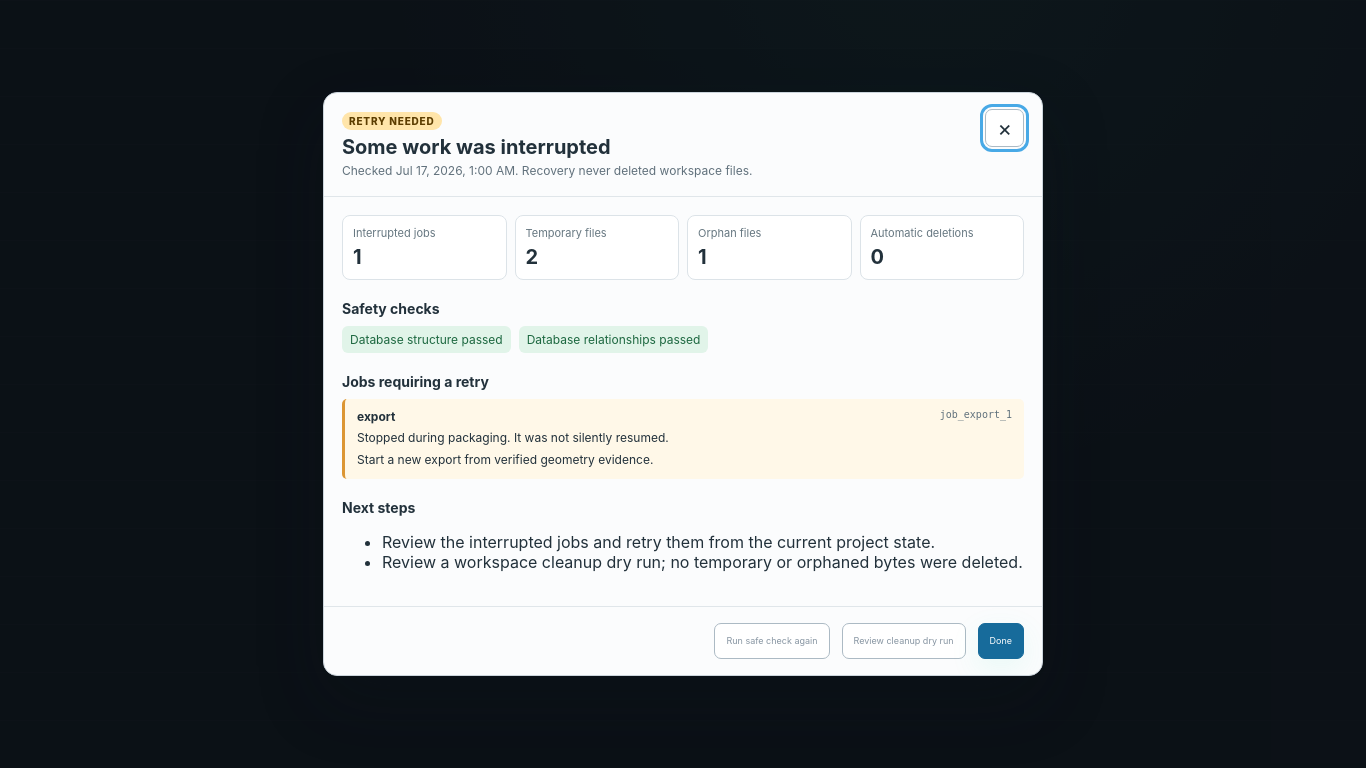
it: WorkspaceRecoveryPanel › explains that jobs were not resumed and cleanup remains a reviewed action
Expected: the dialog "Some work was interrupted" shows "Stopped during packaging. It was not silently resumed.", [323,92,1043,676]
Click the button "Review cleanup dry run".
click(904, 641)  # box [842,623,966,659]
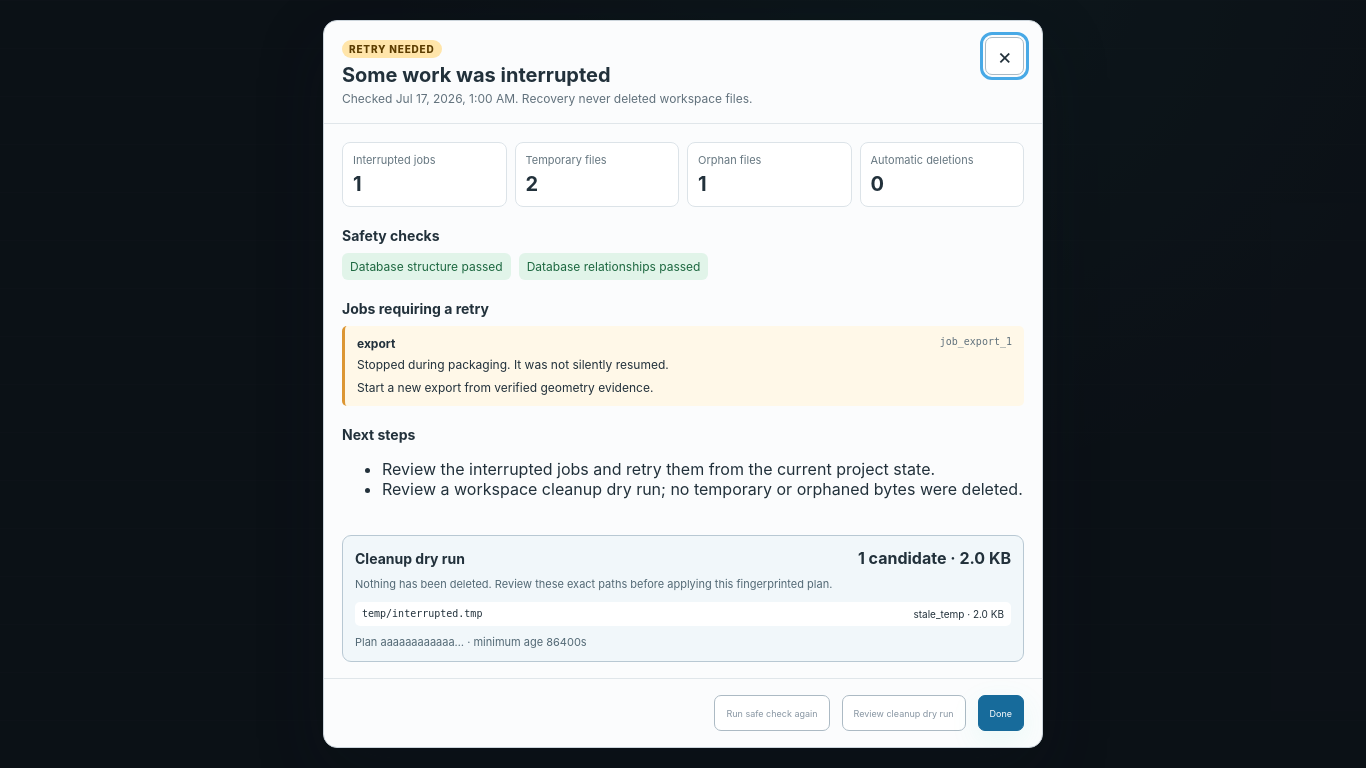
Result: the heading "Cleanup dry run" is shown at [355,550,465,567]
Click the button "Run safe check again".
click(772, 713)  # box [714,695,830,731]
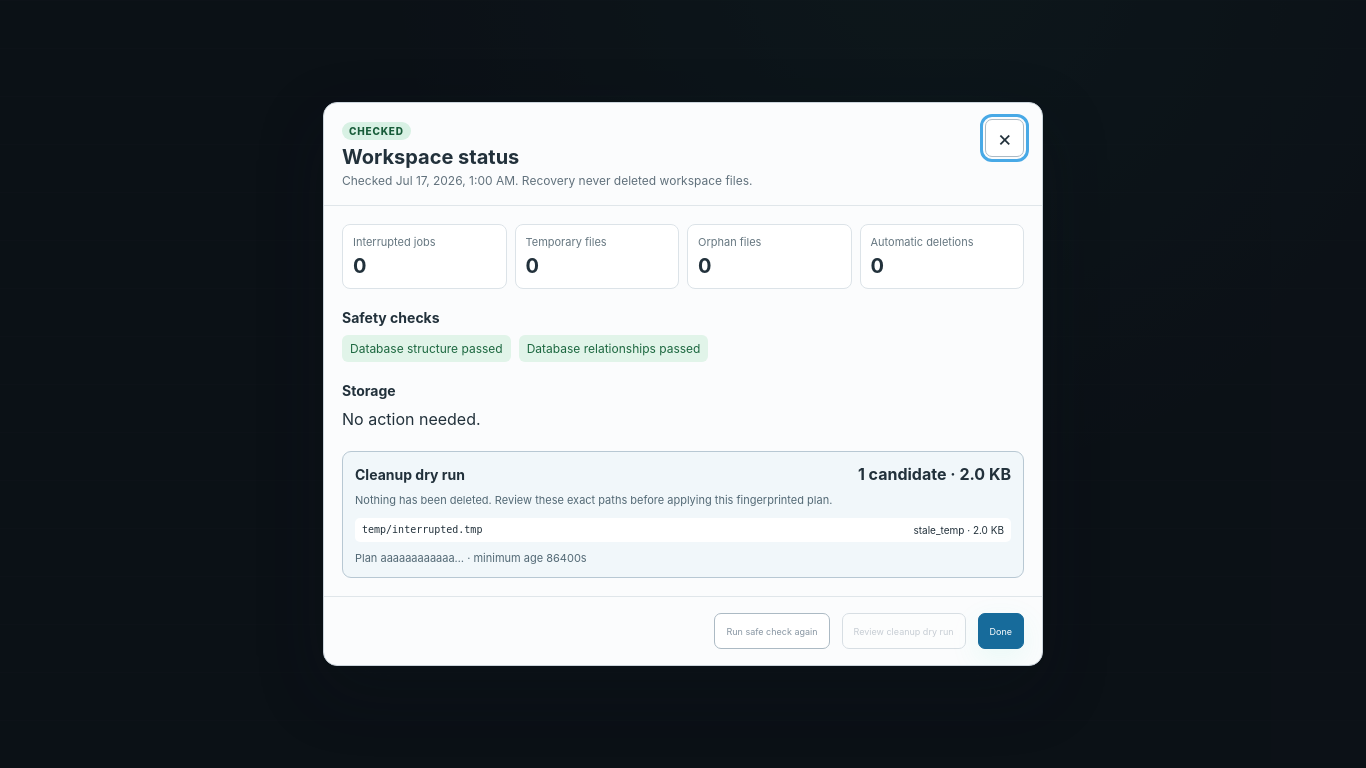
Result: the dialog named "Some work was interrupted" shows "Workspace status" at [342,145,519,169]
Result: the button "Review cleanup dry run" is disabled at [842,613,966,649]
